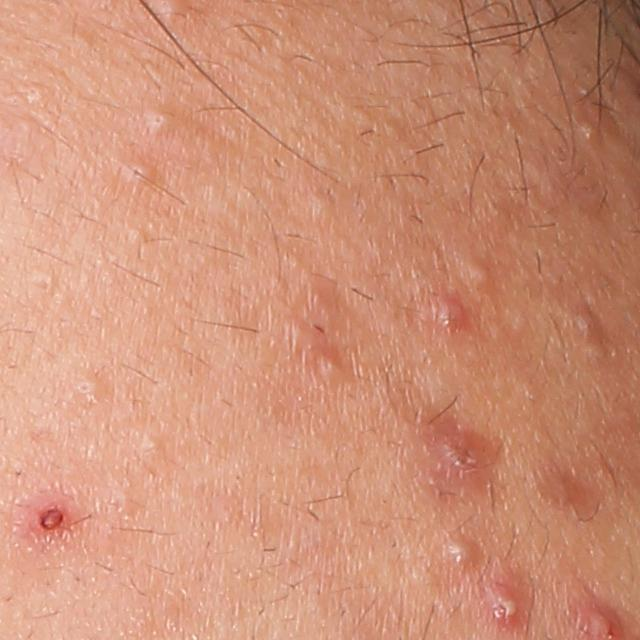comedo: (456, 249, 501, 288), (124, 163, 148, 183), (143, 436, 163, 456)
papule: (430, 424, 498, 480), (29, 494, 82, 536), (311, 349, 347, 382)
